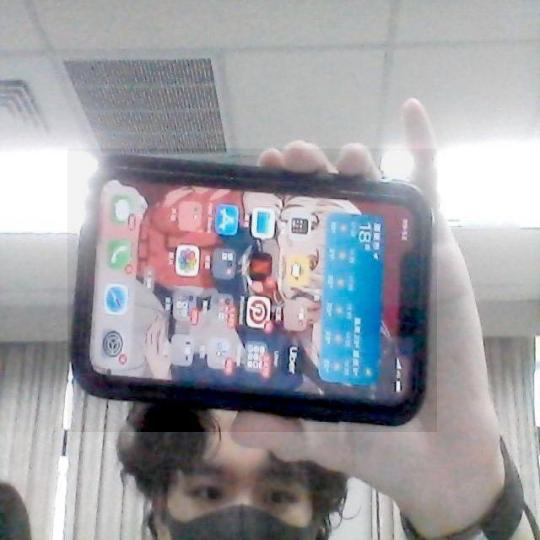phone: (65, 146, 440, 439)
